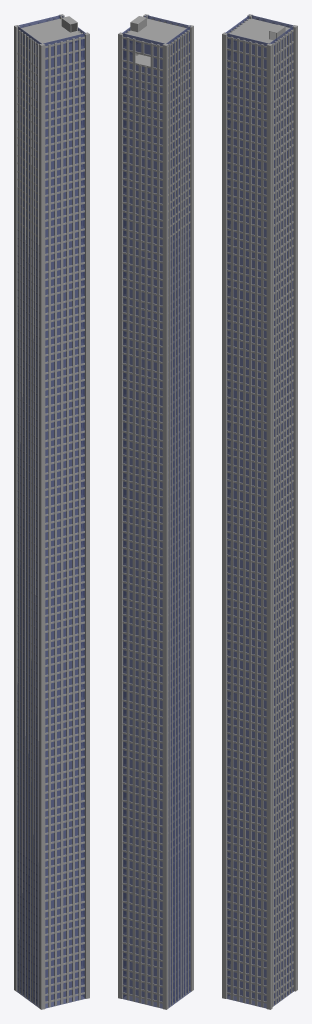
Rendered from Building_10.fbx.
3 views of the same model, side by side, from view 1: azimuth 30°, elevation 25°; view 2: azimuth 150°, elevation 25°; view 3: azimuth 330°, elevation 25° (orthographic).
Visible parts, largest first — view 1: pCube920; view 2: pCube920; view 3: pCube920.
Part boxes in pixels (<box>): pCube920: <box>14,14,89,1009</box>; pCube920: <box>118,14,193,1009</box>; pCube920: <box>222,14,297,1009</box>.
Size of the model in its own units: 8.63 by 165 by 8.44.
